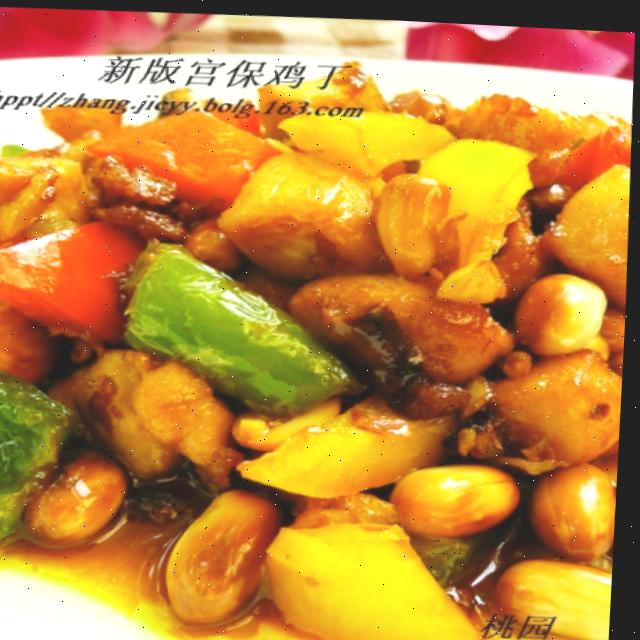鸡肉料理 含炸鸡: (0, 25, 634, 640)
